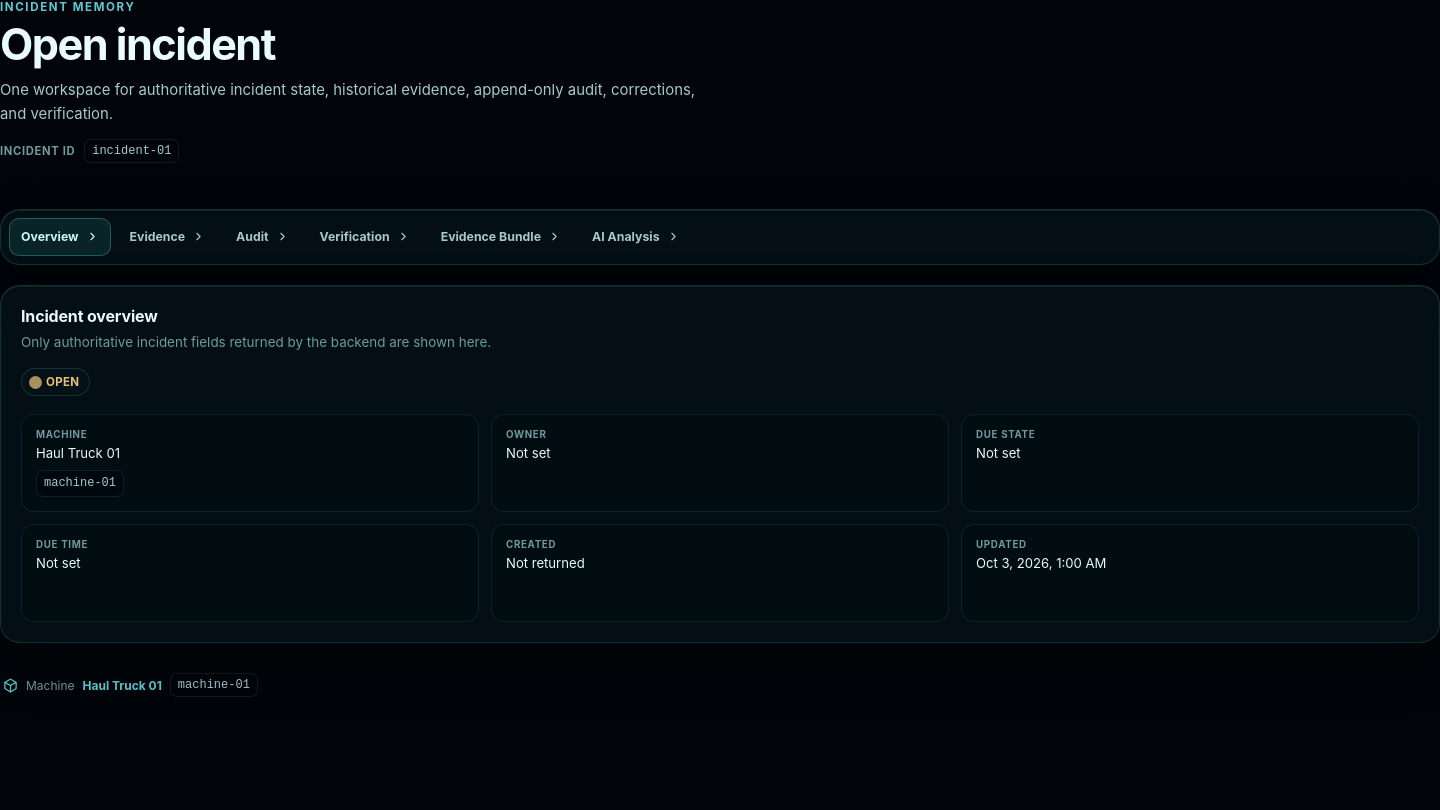
Test: IncidentDetailPage authoritative actions › starts verification only by explicit action and then refetches incident and verification history
This screenshot has width=1440, height=810.
Step 1. Click the button "Verification" → x=365, y=237, box [308, 218, 422, 256]
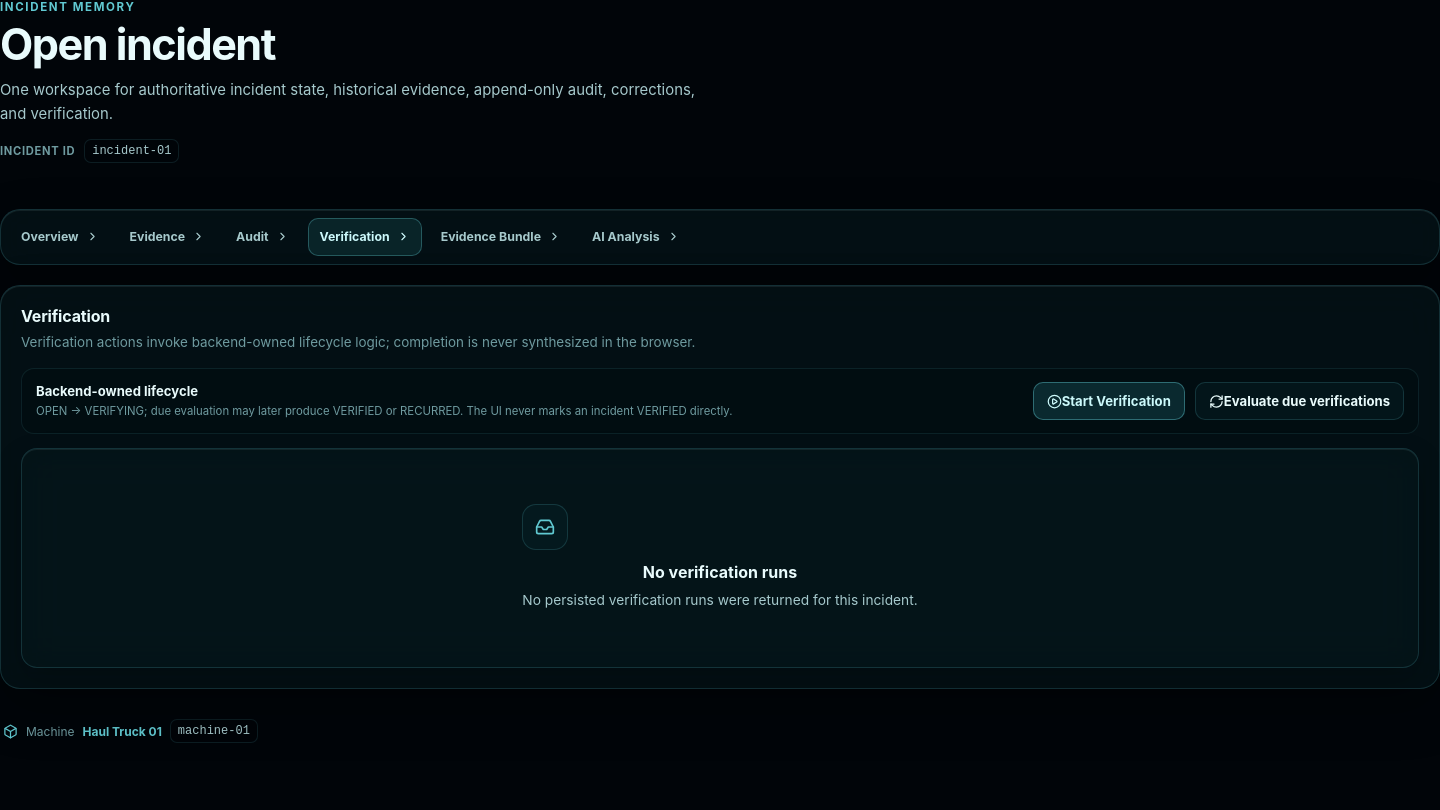
Now the button "Start Verification" is shown
Step 2. Click the button "Start Verification" → x=1109, y=401, box [1033, 382, 1185, 420]
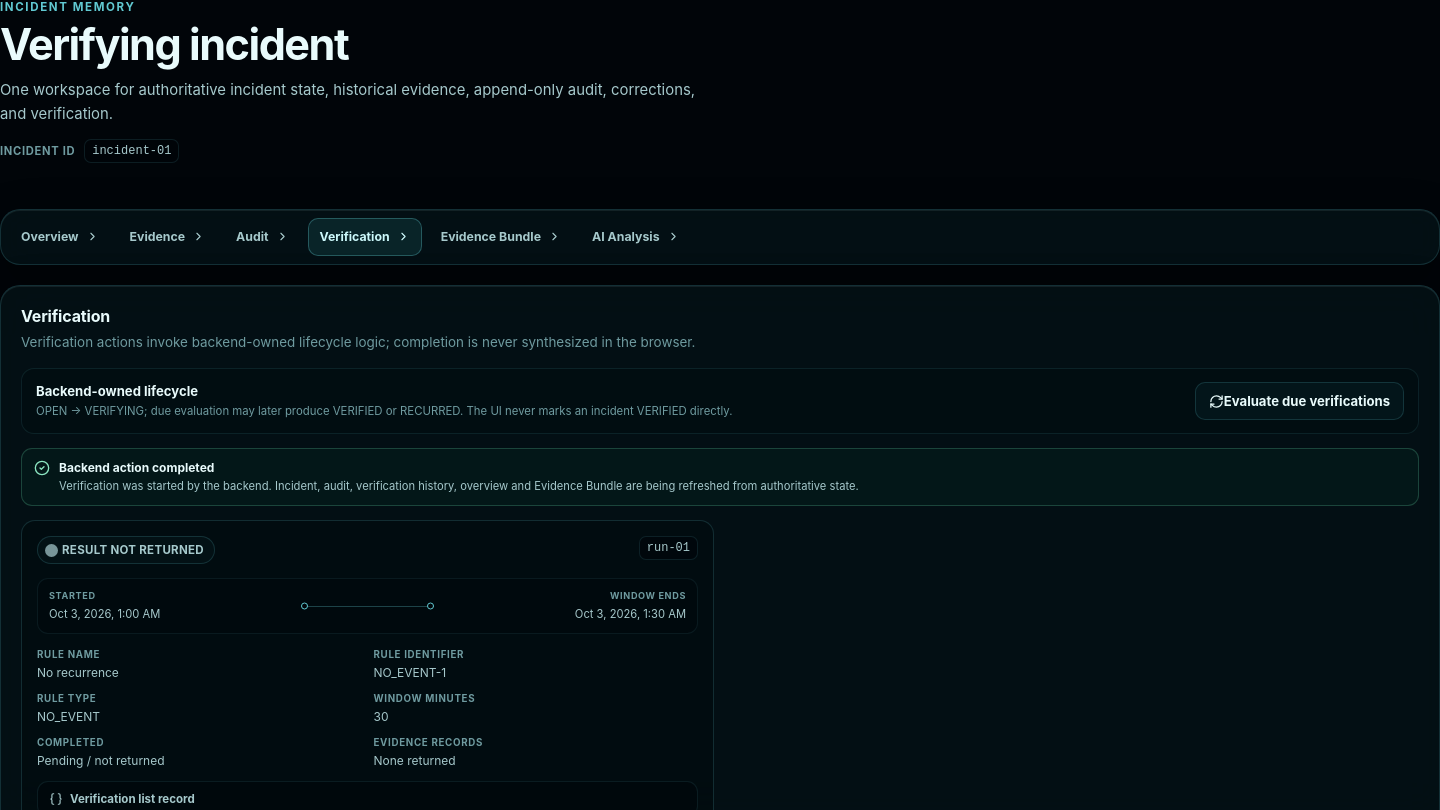
Now the text "No recurrence" is shown, box [37, 665, 119, 680]
Now the button "Start Verification" is gone
